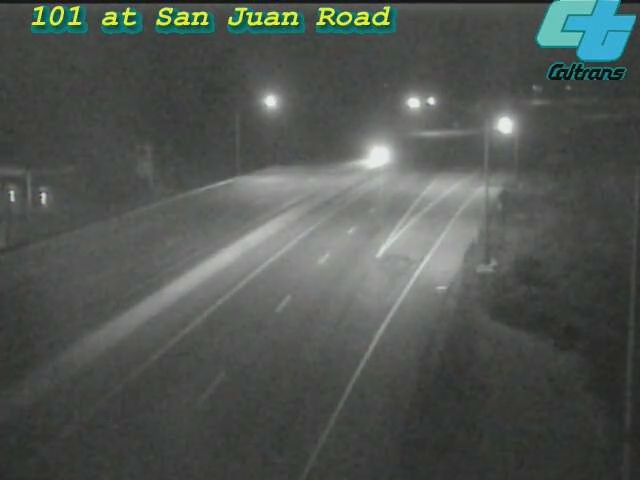vehicle: (354, 131, 404, 181), (480, 100, 530, 150)
